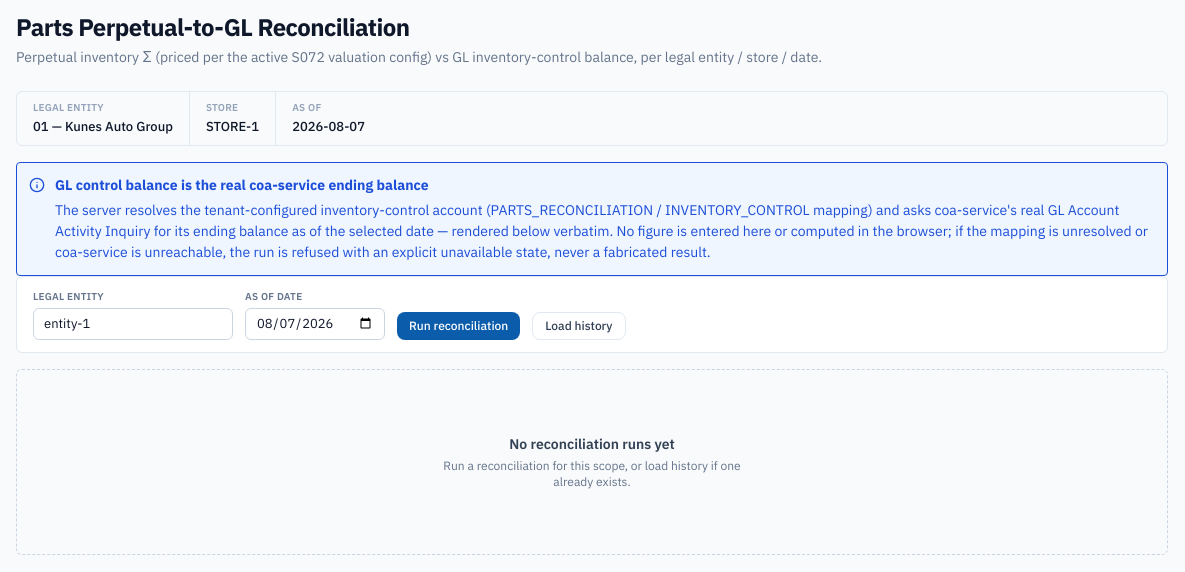
Test: PartsReconciliation › renders a BALANCED status badge for a $0-variance run
// entity field is pre-filled from EntityScopeContext ('entity-1') — no typing needed.
Click the button with test id "parts-reconciliation-history" at [579, 326], box [532,312,626,340]
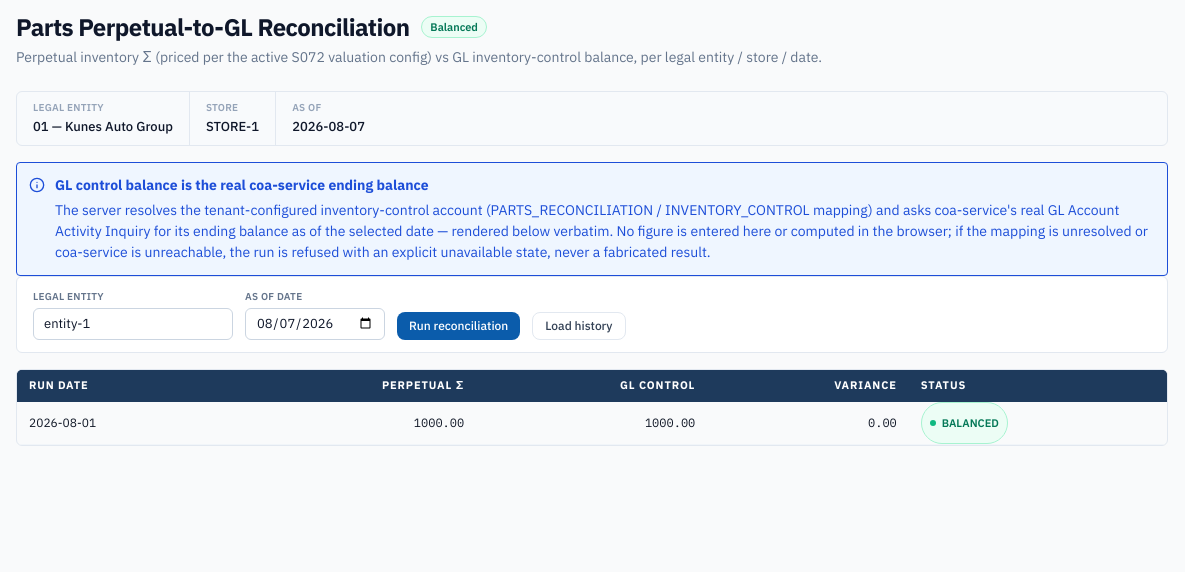
expect the table with test id "parts-reconciliation-summary-table" is shown: met, box [17,370,1167,444]
expect the text "BALANCED" is shown: met, box [921,402,1008,444]
